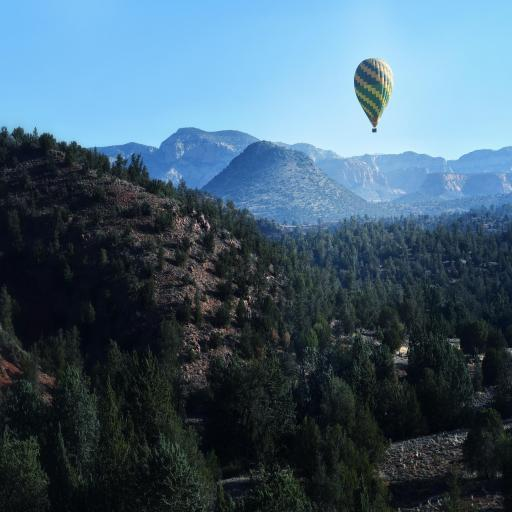hot air ballon: (354, 58, 394, 133)
